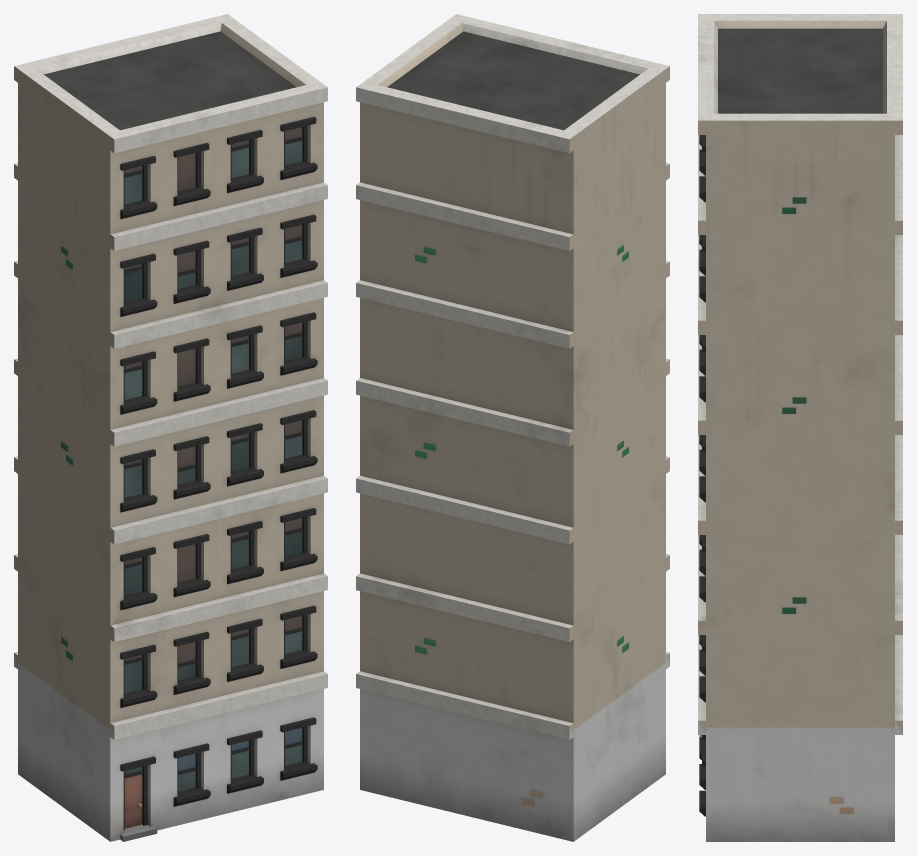
The model's file is building_D_8f.glb.
3 renders of one model, left to right at view 1: azimuth 30°, elevation 25°; view 2: azimuth 150°, elevation 25°; view 3: azimuth 270°, elevation 25°, orthographic. The views are drawn at different scales.
Visible parts, largest first — view 1: ground; view 2: ground; view 3: ground.
Part boxes in pixels (x1,y1,x2,y2): ground: (14, 14, 327, 841); ground: (356, 14, 669, 841); ground: (698, 14, 902, 841).
Bounding box in the file's own units: 1.61 × 5.05 × 1.3.
2 materials, 2 textured.
